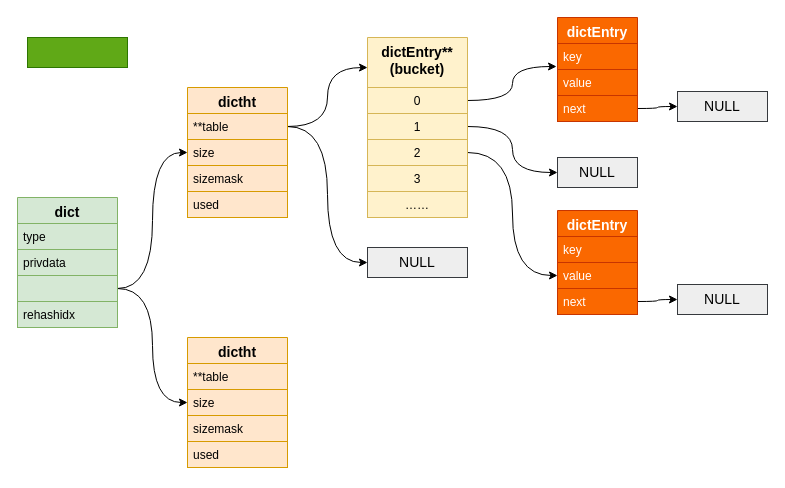
Some shapes in this 785 by 488 pixel diagram are drawn without their labels. The centre of each missing label's shape, as x and y in pixels:
"ht[2]" belongs at [67,288].
"redisDb-0" belongs at [77,52].
